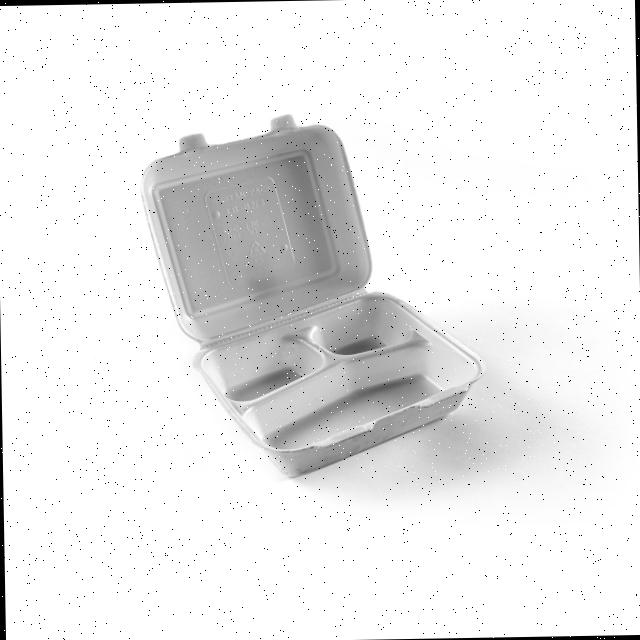styrofoam: (138, 108, 488, 480)
